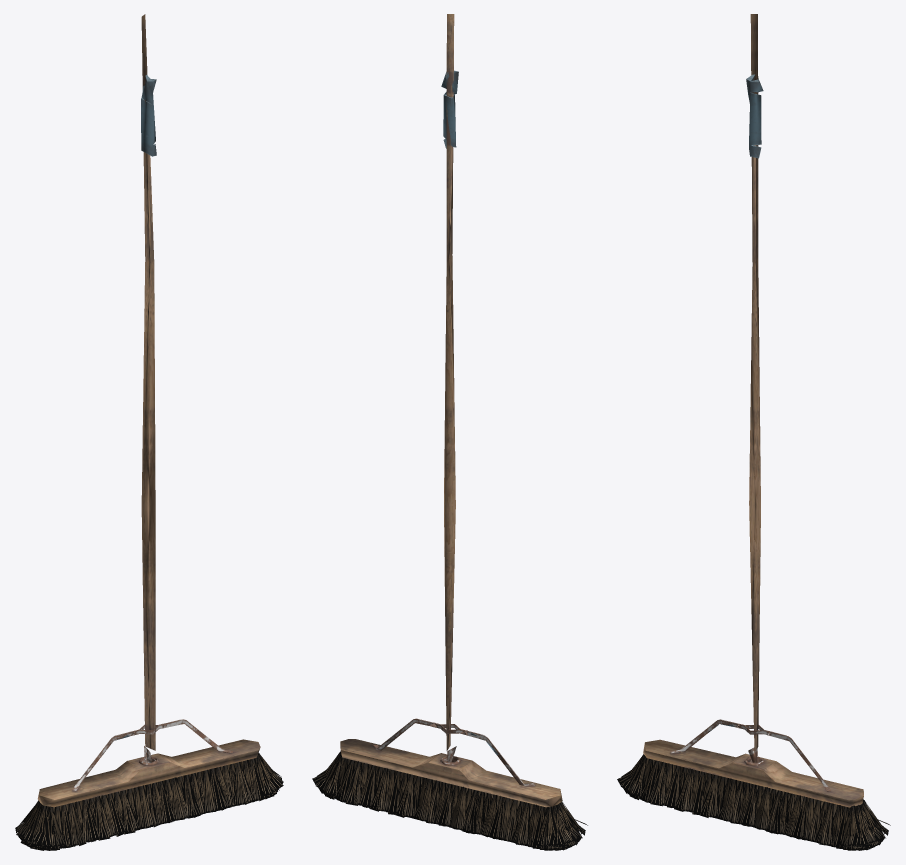
File: wooden_broom.glb
3 views of the same model, side by side, from view 1: azimuth 30°, elevation 25°; view 2: azimuth 150°, elevation 25°; view 3: azimuth 330°, elevation 25° (orthographic).
Visible parts, largest first — view 1: wooden_broom_handle, wooden_broom_bristles; view 2: wooden_broom_handle, wooden_broom_bristles; view 3: wooden_broom_handle, wooden_broom_bristles.
Part boxes in pixels (x1,y1,x2,y2): wooden_broom_handle: (37, 14, 260, 807); wooden_broom_bristles: (15, 752, 283, 850); wooden_broom_handle: (340, 14, 562, 807); wooden_broom_bristles: (312, 751, 587, 850); wooden_broom_handle: (643, 14, 863, 807); wooden_broom_bristles: (617, 754, 890, 850).
Bounding box in the file's own units: 0.4902 × 1.44 × 0.1125.
Materials: 2 (2 with a texture image).
